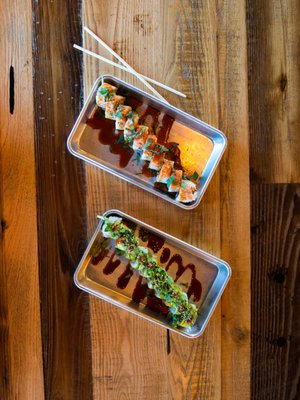sushi: (66, 74, 228, 211), (73, 208, 232, 339)
